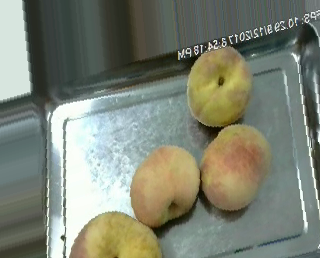Peach: (200, 123, 270, 211), (123, 143, 196, 227), (185, 44, 251, 127), (70, 210, 161, 257)
